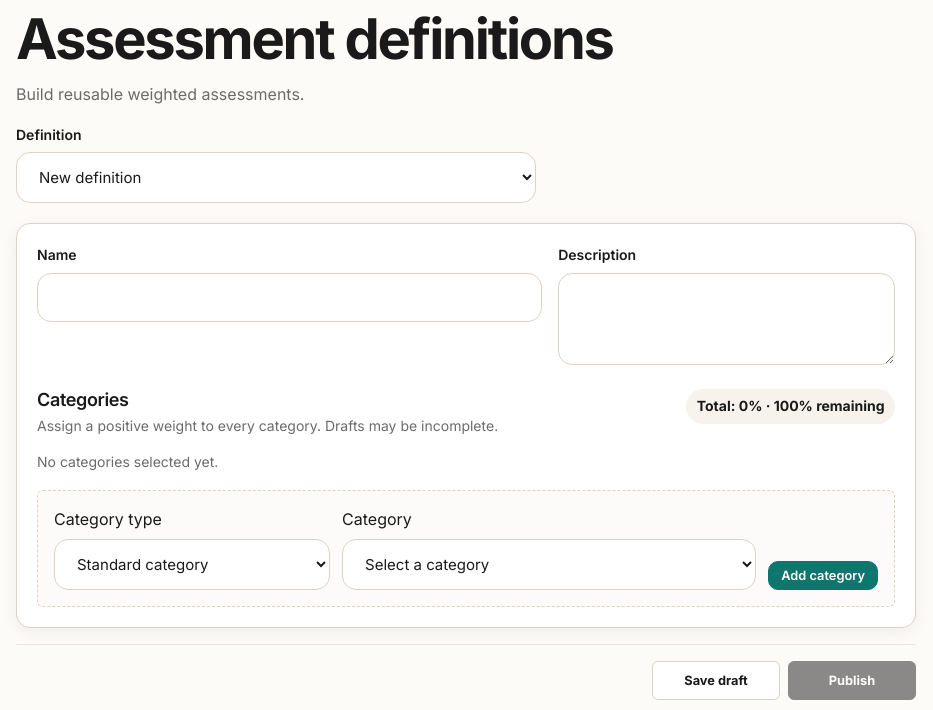
AssessmentDefinitions › only enables publishing when the weights total 100
Select "Attack" in the dropdown named "Add category" at (549, 564), box x1=342 y1=538 x2=756 y2=590
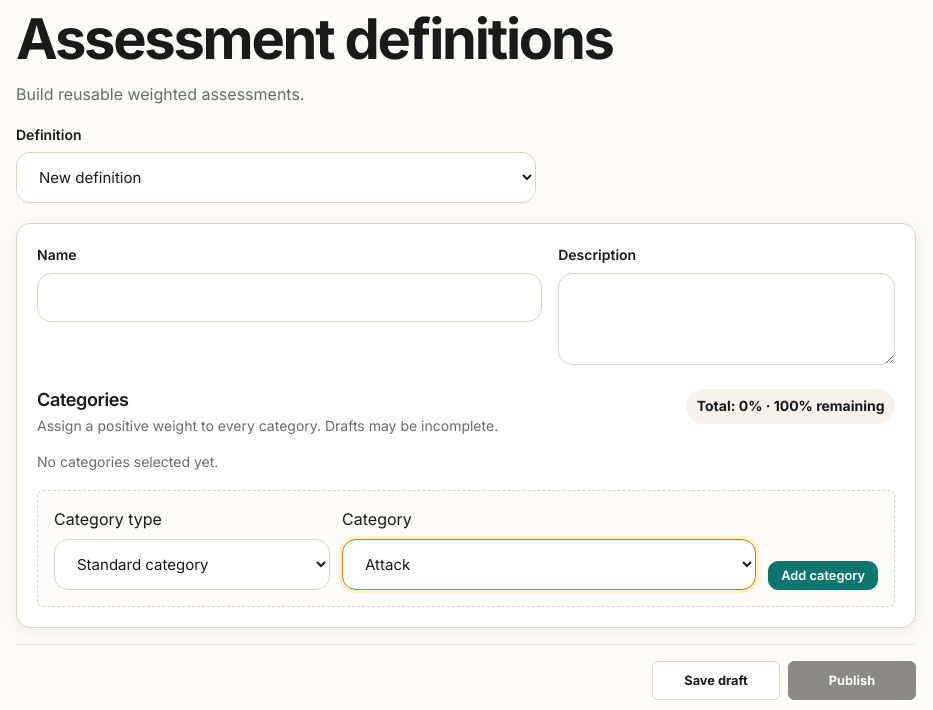
Click the button "Add category" at (823, 575), box x1=768 y1=560 x2=878 y2=590
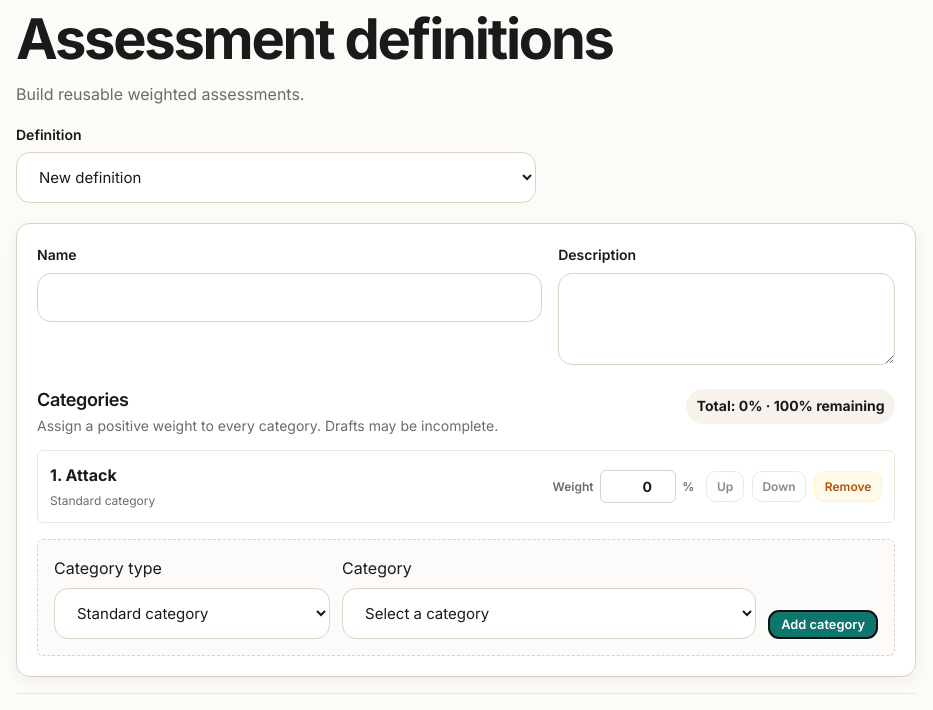
Type "100" into the number field named "Weight for Attack" at (638, 486), box x1=600 y1=470 x2=676 y2=503
(page scrolled)
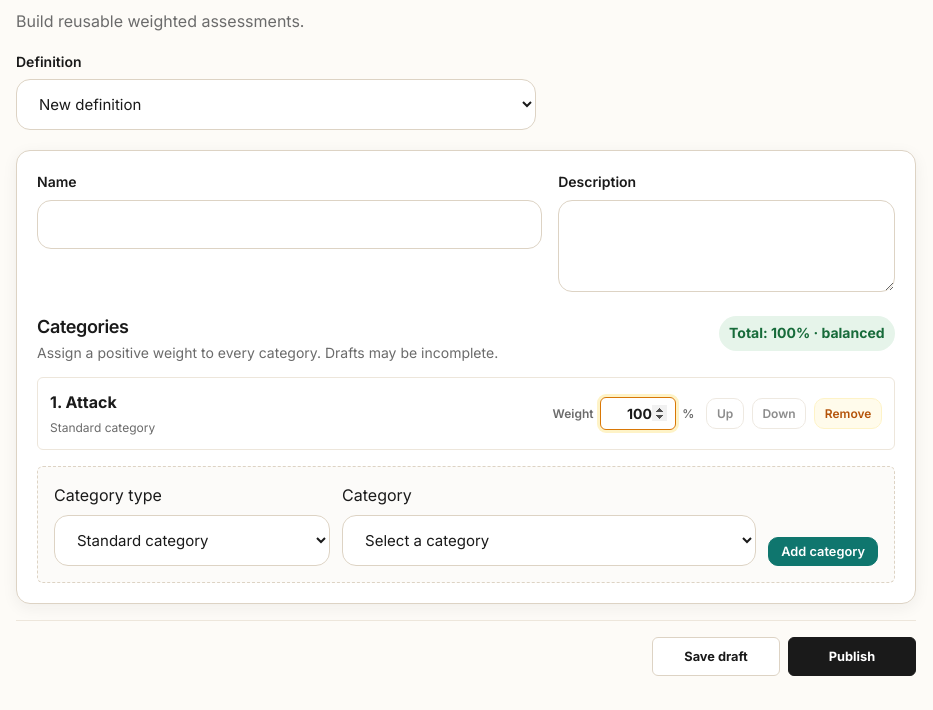
Expected: the button "Publish" is enabled, x1=788 y1=636 x2=916 y2=676
